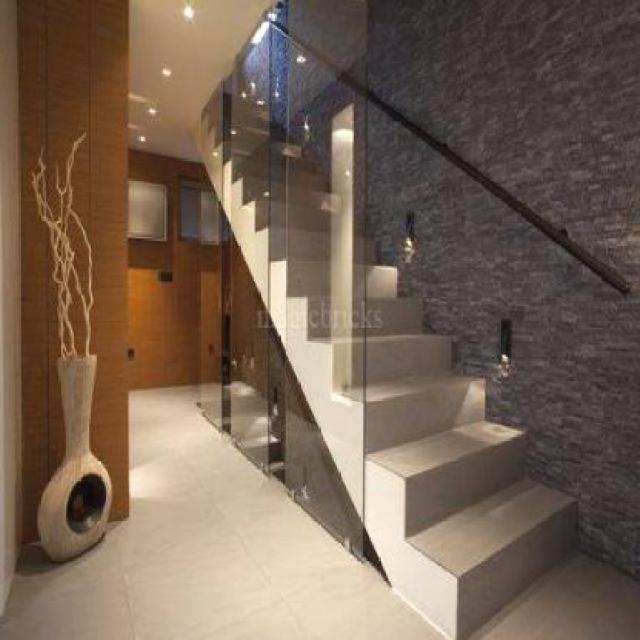stair: (180, 35, 602, 638)
